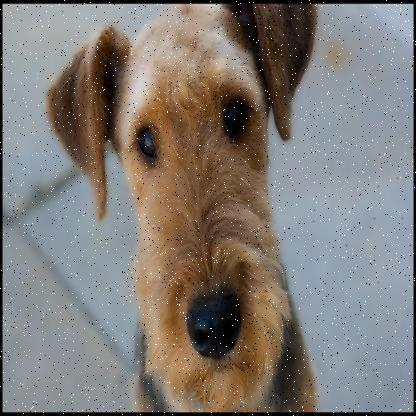dog: (51, 6, 332, 416)
